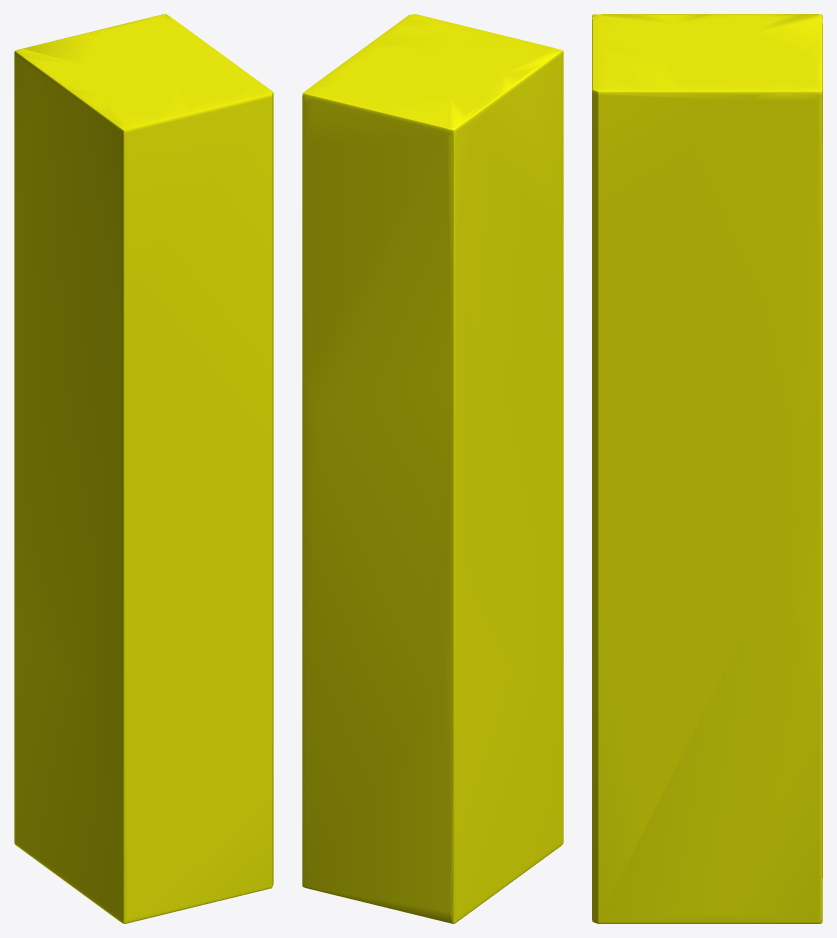
Rendered from matraca-esq.glb.
The picture shows the model from 3 angles, left to right: view 1: azimuth 30°, elevation 25°; view 2: azimuth 150°, elevation 25°; view 3: azimuth 270°, elevation 25°; orthographic projection. The views are drawn at different scales.
Parts seen in each view (by area): view 1: MATRACA_01_ESQ; view 2: MATRACA_01_ESQ; view 3: MATRACA_01_ESQ.
Boxes of the visible parts, x1,y1,x2,y2 form: MATRACA_01_ESQ: (14, 14, 273, 923); MATRACA_01_ESQ: (302, 14, 563, 923); MATRACA_01_ESQ: (592, 14, 822, 923).
Bounding box in the file's own units: 0.4001 × 1.98 × 0.4982.
